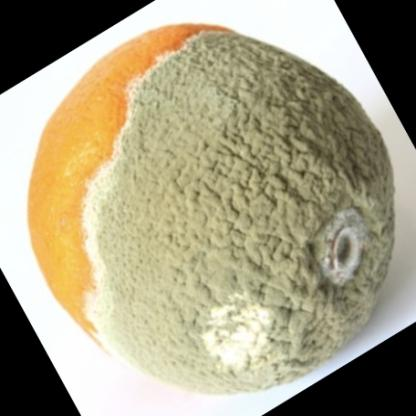rotten: (28, 22, 394, 395)
